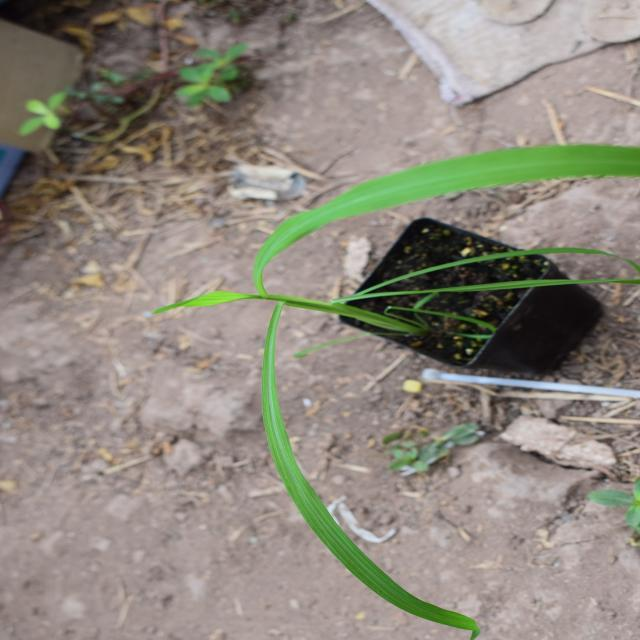barnyard_grass: (29, 185, 507, 619)
